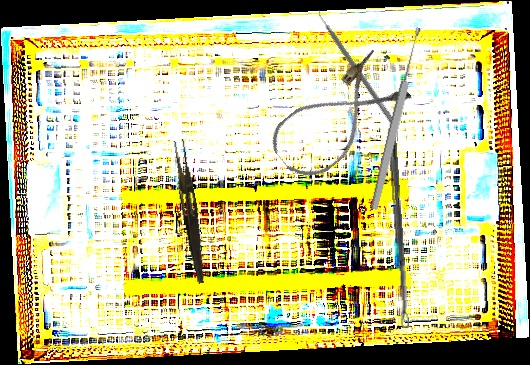Cannula: (262, 48, 415, 189)
Dressing Forceps: (168, 138, 212, 285)
Spatula Surgical: (313, 7, 401, 126)
Surgical Spoon: (368, 26, 425, 211), (386, 128, 410, 329)
